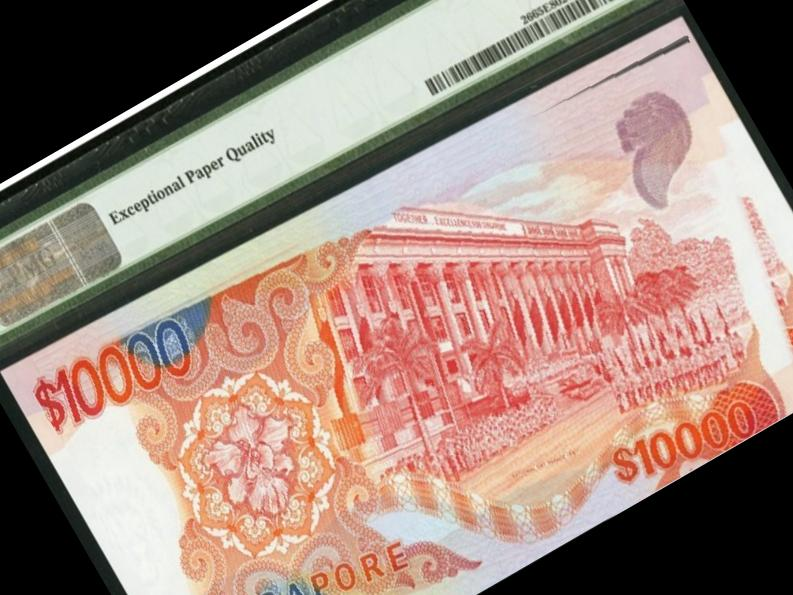10000SingaporeDollar: (28, 11, 793, 595)
